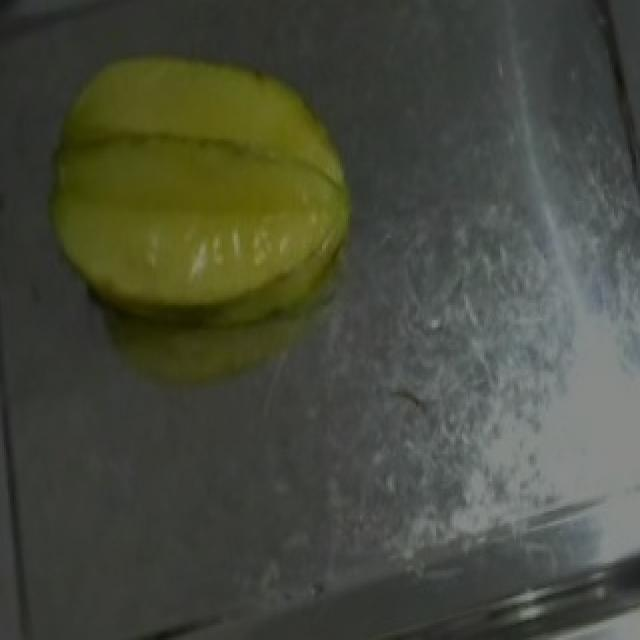fruit: (28, 10, 390, 342)
